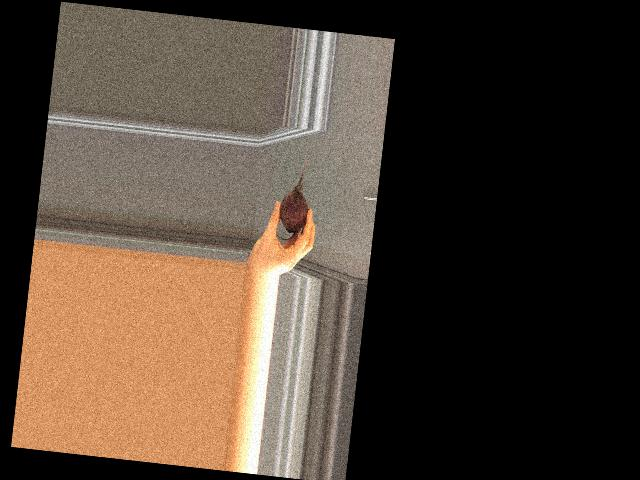beet: (275, 151, 313, 241)
